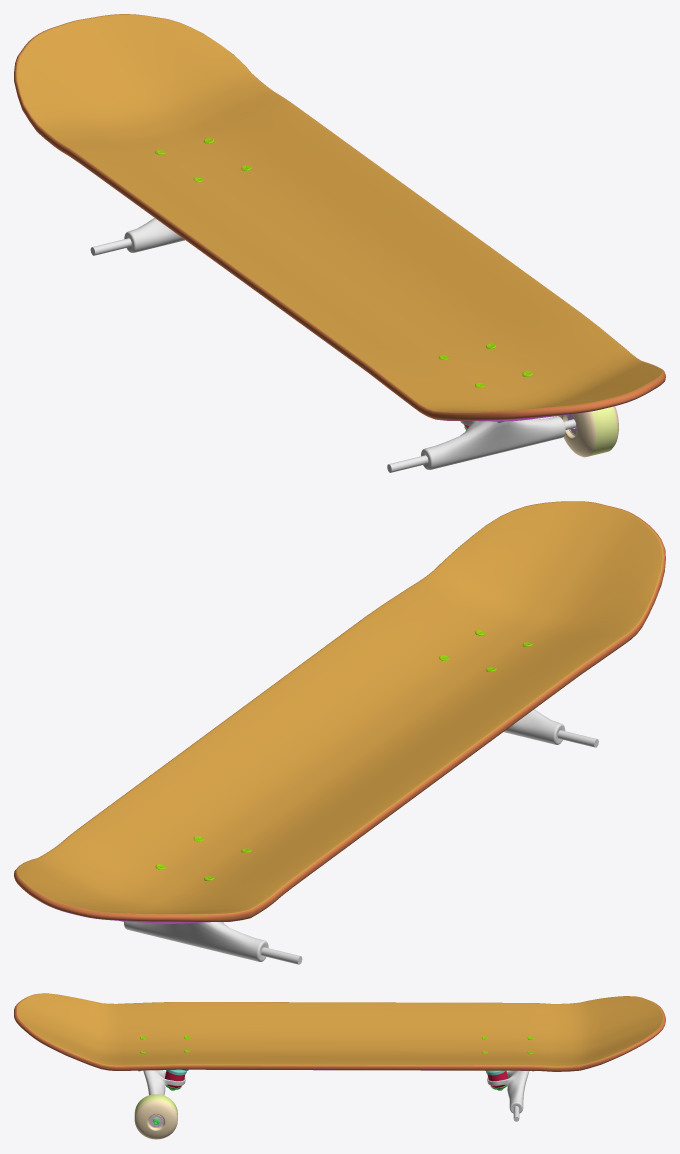
The model's file is skateboard.fbx.
3 views of the same model, one above another, from view 1: azimuth 30°, elevation 25°; view 2: azimuth 150°, elevation 25°; view 3: azimuth 270°, elevation 25° (orthographic). The views are drawn at different scales.
Parts seen in each view (by area): view 1: Deck, Trucks, Wheel; view 2: Deck, Trucks; view 3: Deck, Wheel, Trucks.
Part boxes in pixels (x1,y1,x2,y2): Deck: [14, 14, 665, 429]; Trucks: [90, 218, 575, 472]; Wheel: [558, 406, 618, 457]; Deck: [14, 501, 665, 923]; Trucks: [120, 709, 598, 964]; Deck: [14, 993, 665, 1090]; Wheel: [134, 1094, 177, 1139]; Trucks: [143, 1070, 529, 1121].
Bounding box in the file's own units: 19.3 × 13.26 × 80.5.
